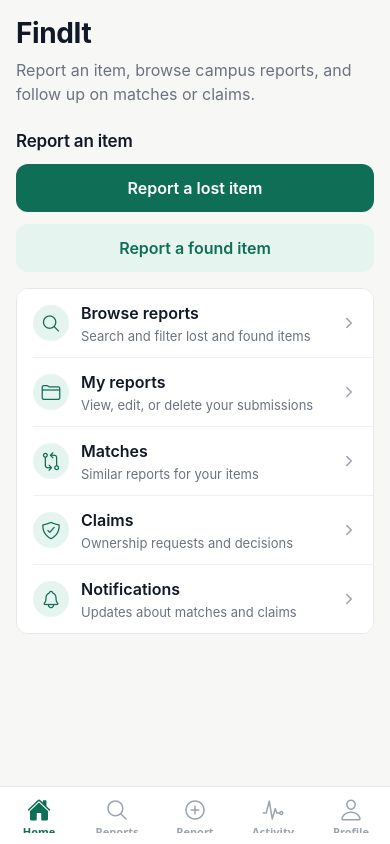
it: Match, claim, and notification flows › lists matches for the signed-in user's reports
The image size is (390, 844).
Expected: the text "Restoring your session" is not shown
Click the button "Matches Similar reports for your items" at (51, 461), box [17, 427, 373, 495]
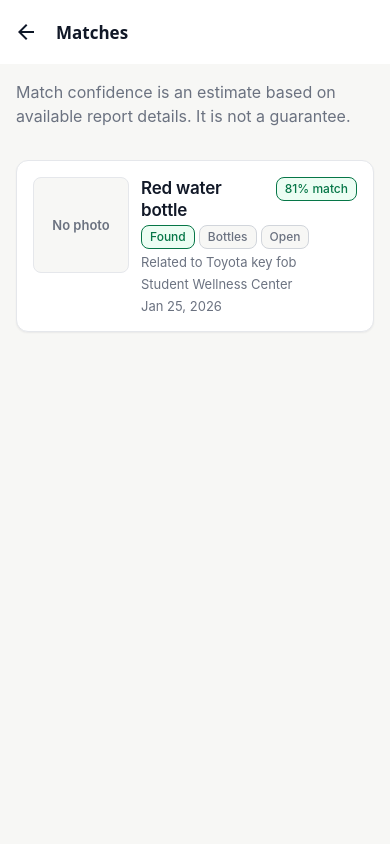
Result: the text "Red water bottle" is shown at [141, 178, 226, 220]
Result: the text "81% match" is shown at [285, 181, 348, 196]
Result: the text "Related to Toyota key fob" is shown at [141, 254, 296, 270]
